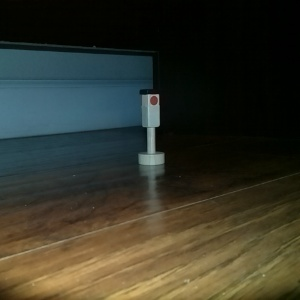traffic light red: (134, 86, 168, 167)
